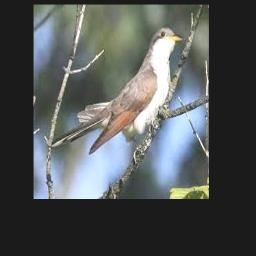Cuckoo: (77, 27, 183, 155)
